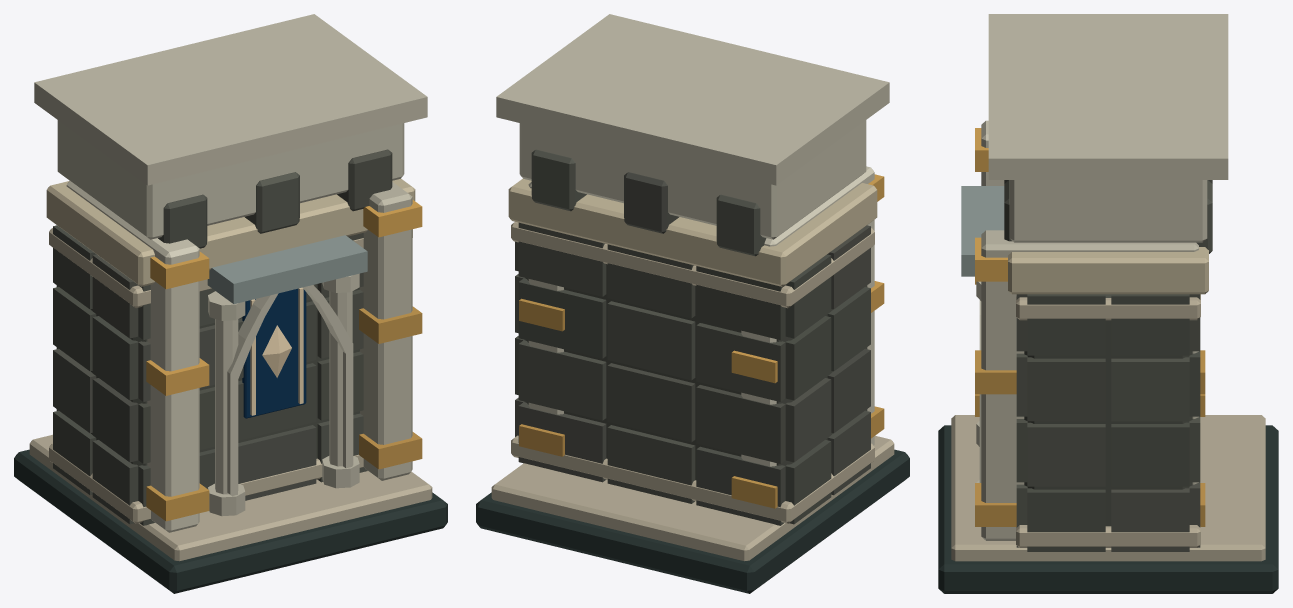
3 renders of one model, left to right at view 1: azimuth 30°, elevation 25°; view 2: azimuth 150°, elevation 25°; view 3: azimuth 270°, elevation 25°, orthographic. The views are drawn at different scales.
Visible parts, largest first — view 1: wall_L4_0, wall_L4_1; view 2: wall_L4_0, wall_L4_1; view 3: wall_L4_0, wall_L4_1.
Boxes of the visible parts, x1,y1,x2,y2 form: wall_L4_0: [14, 14, 447, 593]; wall_L4_1: [146, 200, 422, 521]; wall_L4_0: [476, 14, 909, 593]; wall_L4_1: [519, 174, 884, 508]; wall_L4_0: [938, 14, 1278, 593]; wall_L4_1: [975, 128, 1205, 526].
Bounding box in the file's own units: 1.87 × 2.64 × 1.86.
